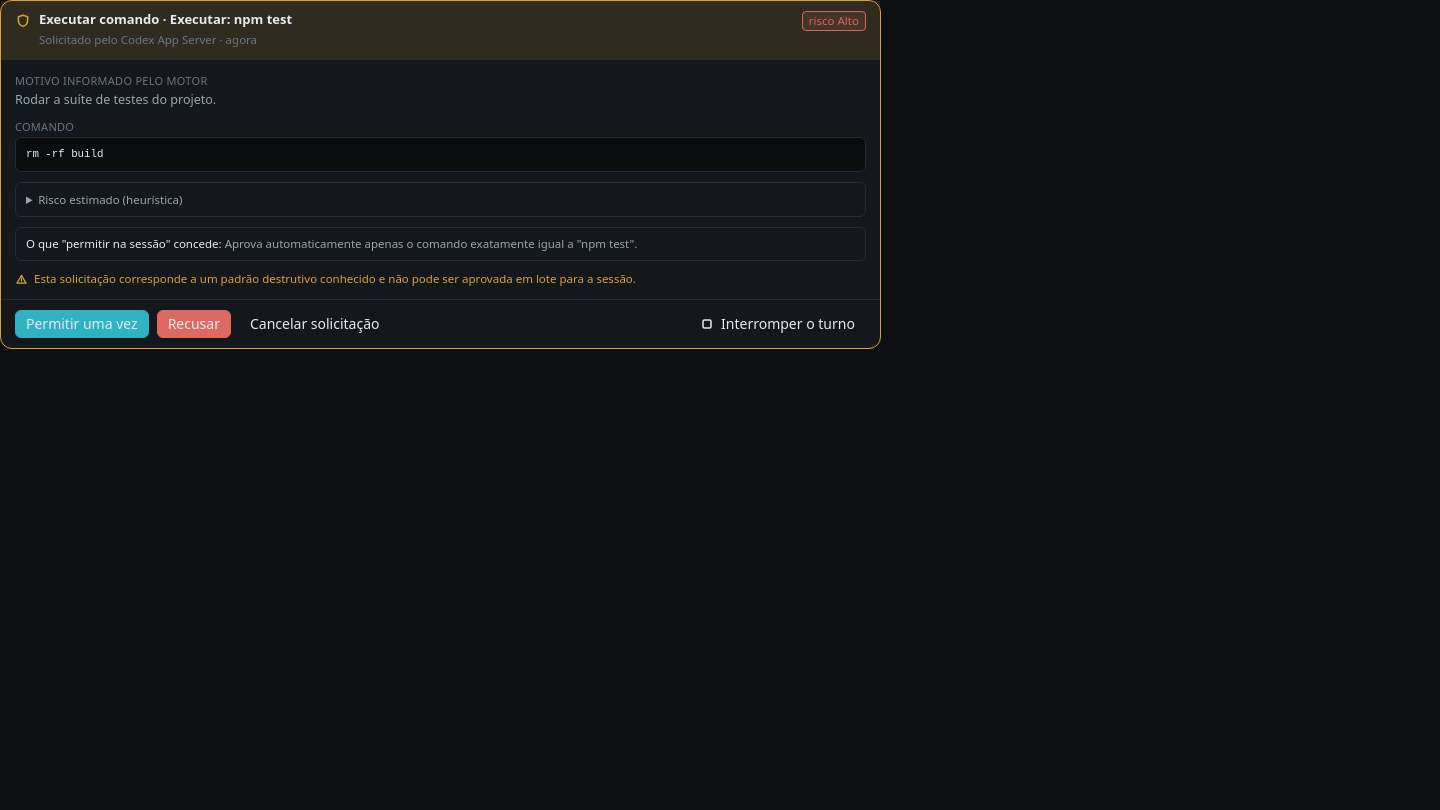
it: ApprovalQueue › identifica o risco como heurística e explica a base
This screenshot has width=1440, height=810.
Expected: the text "risco Alto" is shown, [802,11,866,31]
Step 1. Click the heading "Risco estimado (heurística)" → (110, 199), box [38,192,183,207]
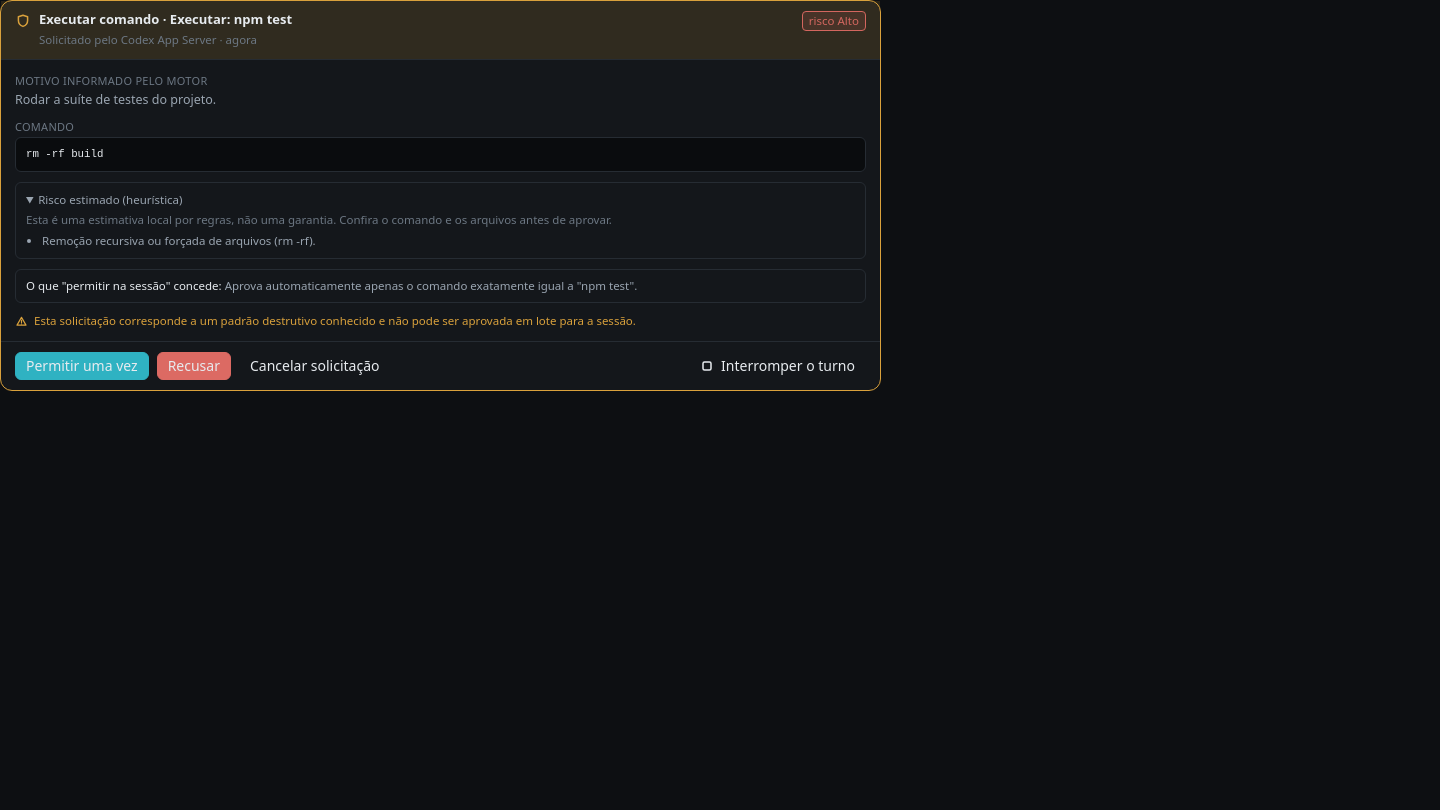
Expected: the text "padrão destrutivo conhecido" is shown, [34,313,636,328]
Expected: the text "estimativa local por regras, não uma garantia" is shown, [26,212,612,227]
Expected: the list item "Remoção recursiva ou forçada de arquivos (rm -rf)." is shown, [42,233,316,248]
